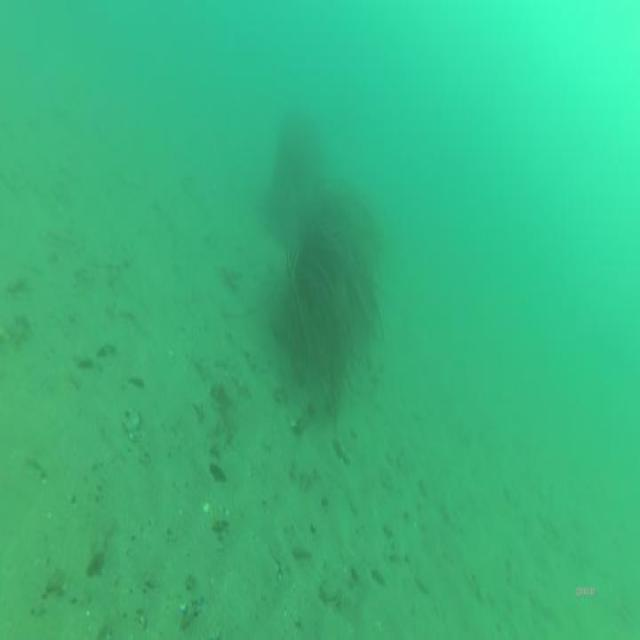waterweeds: (288, 185, 384, 408)
